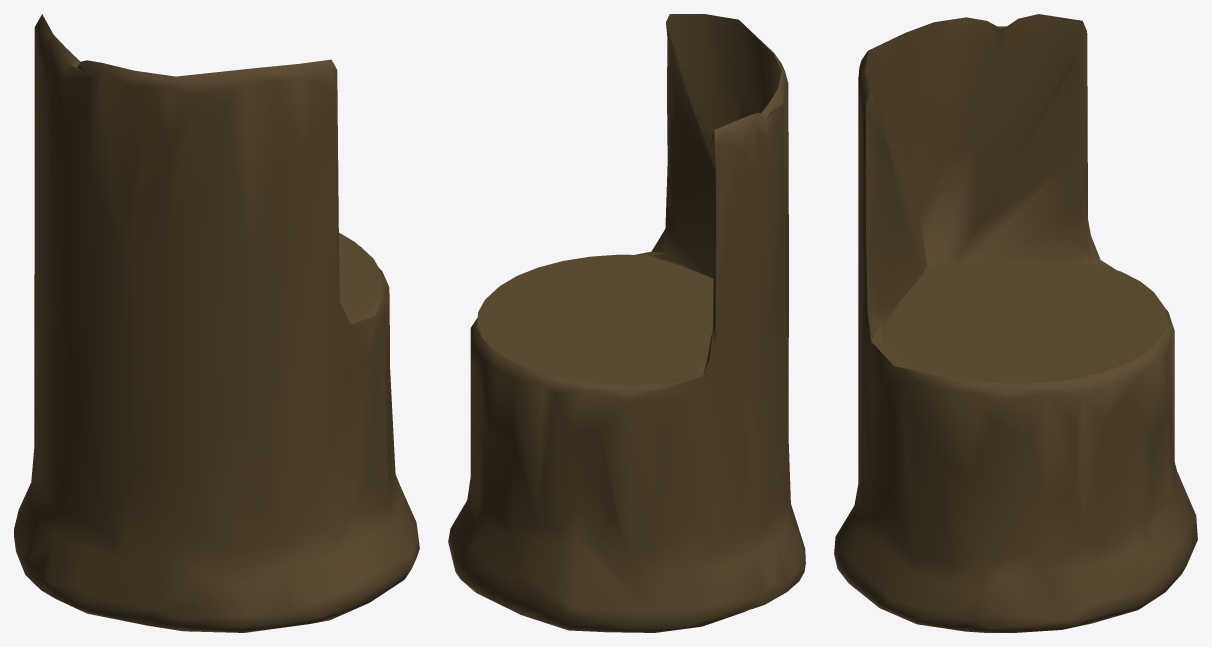
The model's file is chair 1.fbx.
3 views of the same model, side by side, from view 1: azimuth 30°, elevation 25°; view 2: azimuth 150°, elevation 25°; view 3: azimuth 270°, elevation 25° (orthographic). The views are drawn at different scales.
Visible parts, largest first — view 1: Polygon_Reduction_1, baumringe; view 2: Polygon_Reduction_1, baumringe; view 3: Polygon_Reduction_1, baumringe.
Boxes of the visible parts, x1,y1,x2,y2 form: Polygon_Reduction_1: (14,14,419,632); baumringe: (339,233,376,316); Polygon_Reduction_1: (448,14,805,632); baumringe: (480,254,713,379); Polygon_Reduction_1: (834,14,1197,632); baumringe: (882,261,1164,377).
Bounding box in the file's own units: 98.53 × 150 × 98.75.
